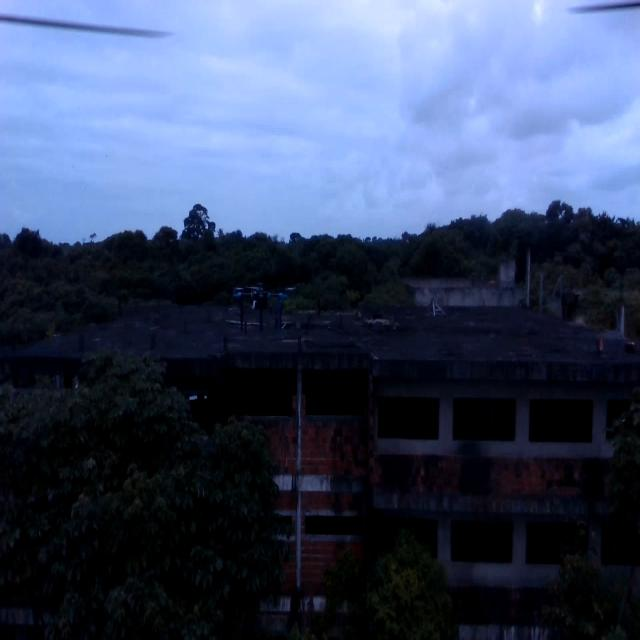-uav-: (231, 274, 295, 347)
